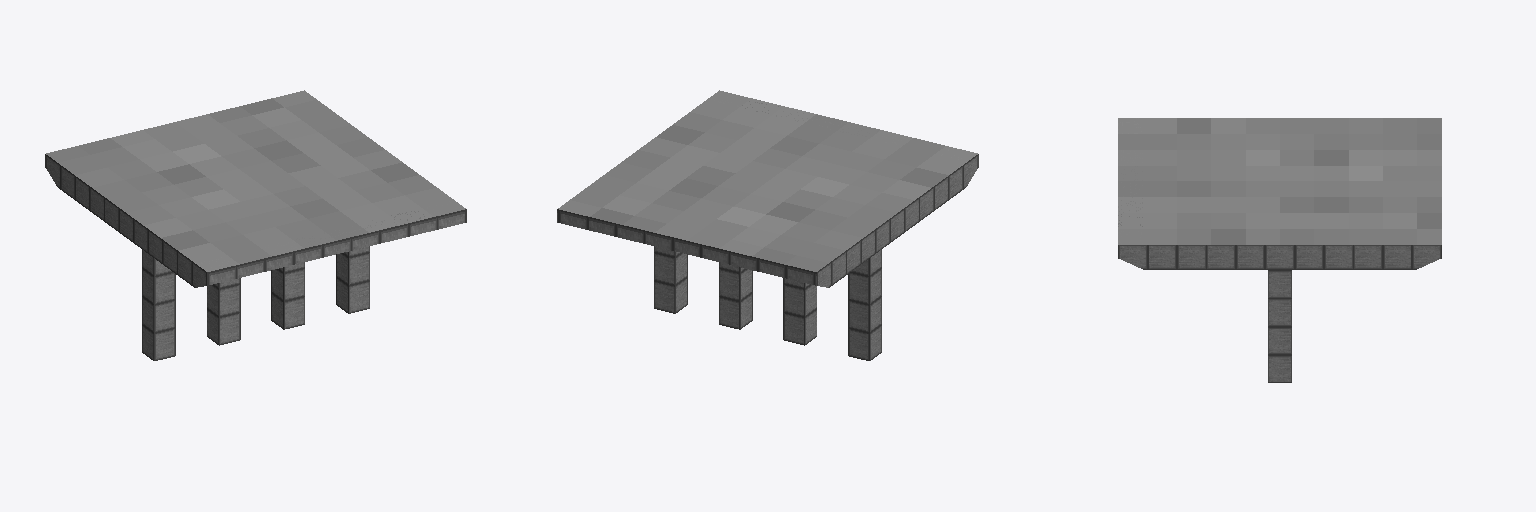
3 renders of one model, left to right at view 1: azimuth 30°, elevation 25°; view 2: azimuth 150°, elevation 25°; view 3: azimuth 270°, elevation 25°, orthographic.
Parts seen in each view (by area): view 1: gas_station_roof; view 2: gas_station_roof; view 3: gas_station_roof.
Part boxes in pixels (left/top/right/bottom): gas_station_roof: left=45, top=90, right=466, bottom=360; gas_station_roof: left=557, top=90, right=978, bottom=360; gas_station_roof: left=1118, top=118, right=1441, bottom=382.
Bounding box in the file's own units: 12 × 6.6 × 13.
2 materials, 2 textured.